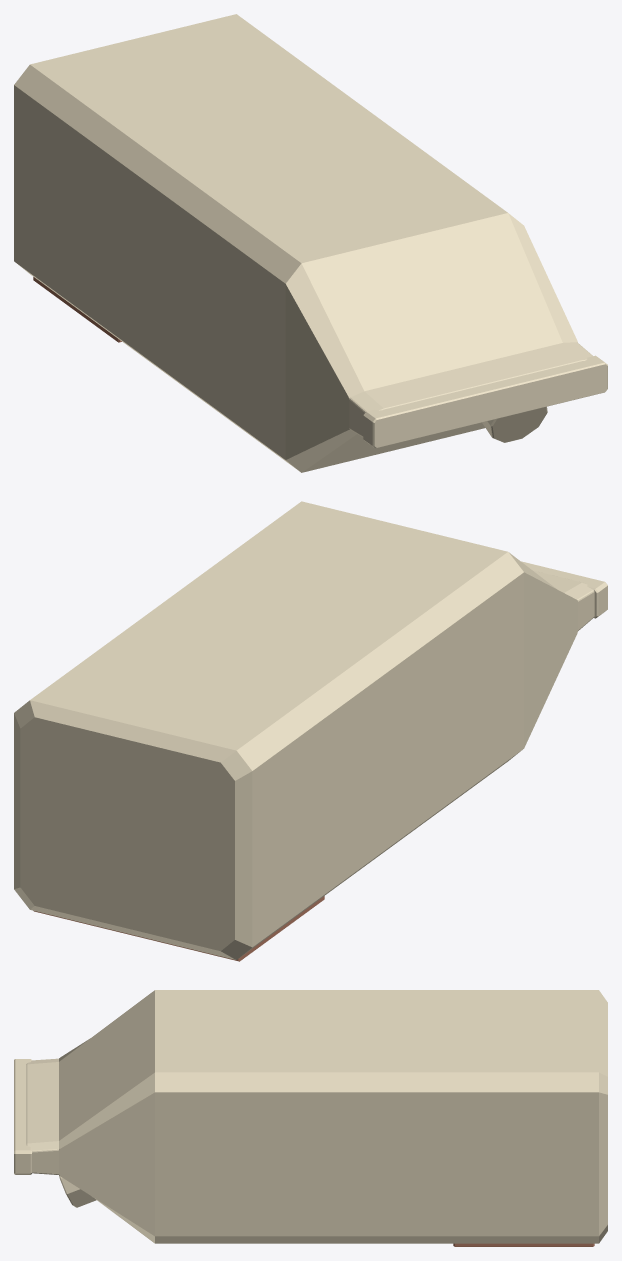
File: almond_milk.glb
3 views of the same model, one above another, from view 1: azimuth 30°, elevation 25°; view 2: azimuth 150°, elevation 25°; view 3: azimuth 270°, elevation 25° (orthographic). The views are drawn at different scales.
Parts seen in each view (by area): view 1: almond_milk; view 2: almond_milk; view 3: almond_milk.
Part boxes in pixels (x1=…): almond_milk: x1=14, y1=14, x2=607, y2=472; almond_milk: x1=14, y1=501, x2=607, y2=961; almond_milk: x1=14, y1=990, x2=607, y2=1246.
Bounding box in the file's own units: 0.075 × 0.0655 × 0.198.
